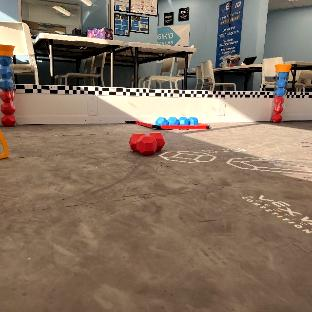V5_BLUE: (153, 117, 199, 127)
V5_RED: (130, 133, 164, 154), (0, 90, 15, 125)
